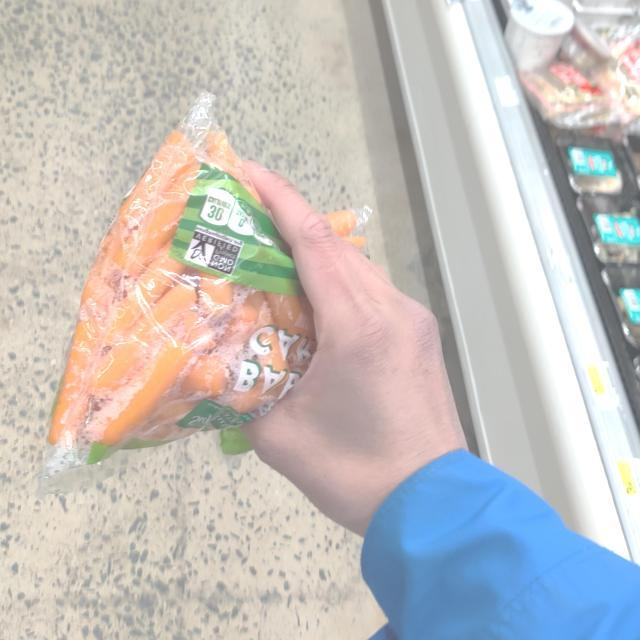carrot: (20, 97, 369, 492)
